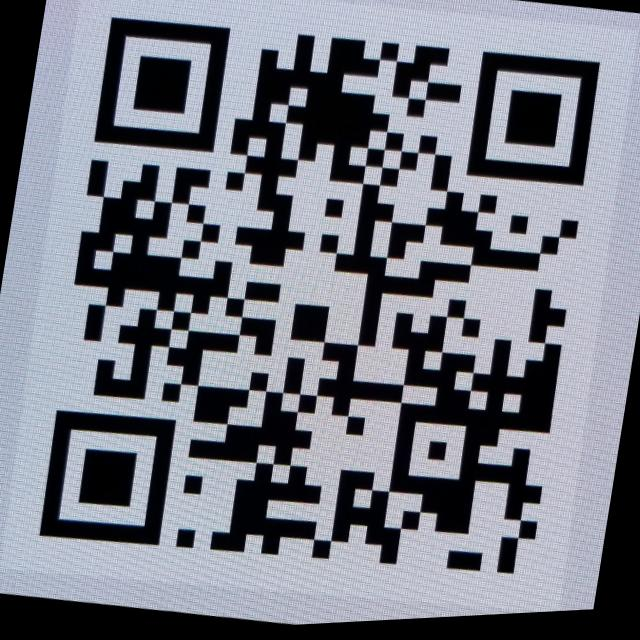QR_CODE: (3, 0, 640, 640)
